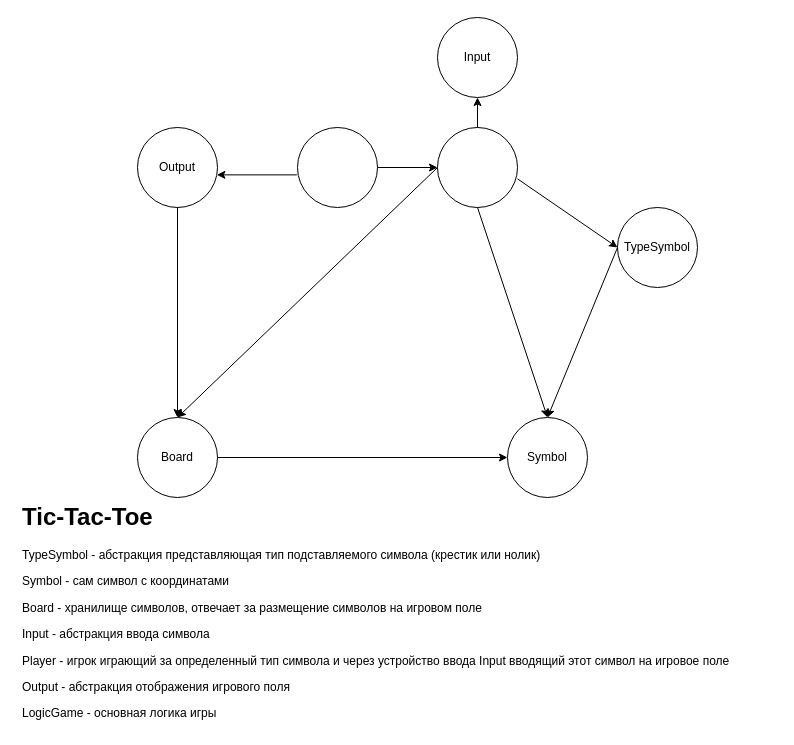
Image size: 794x745. Some labels were removed from this diagram. The shapes that lost their labels are listed below. From the top down, each one's centre as x and y in pixels, then its label:
At point (337, 167): "LogicGame".
At point (477, 167): "Player".
